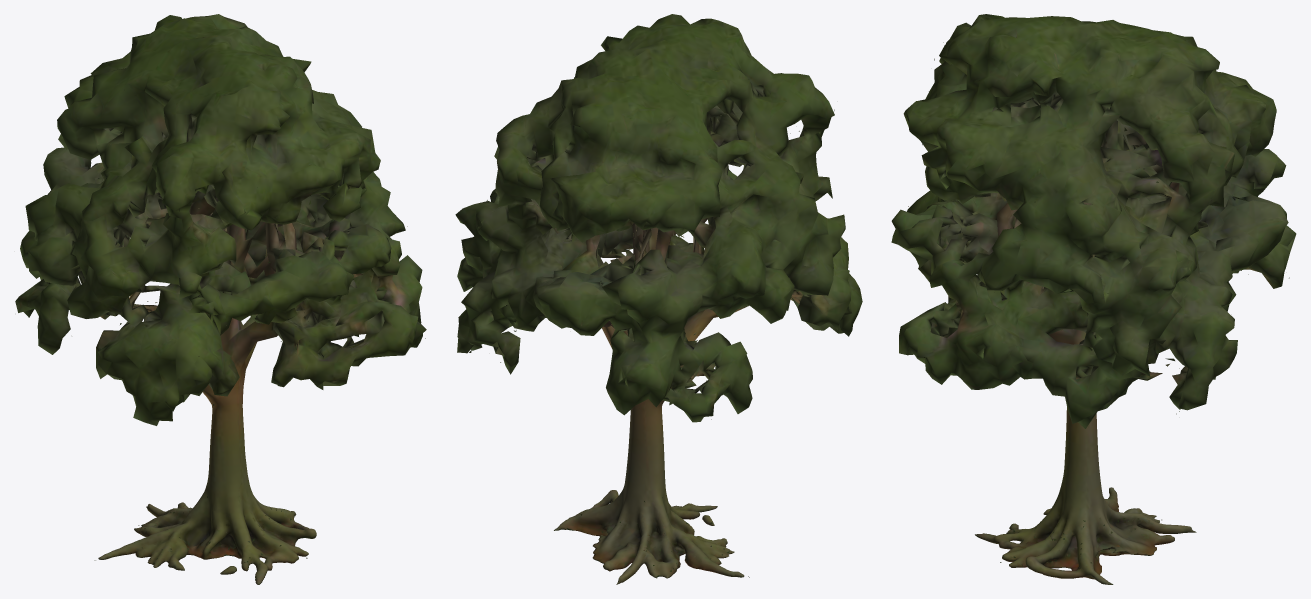
Rendered from tree-high.glb.
The picture shows the model from 3 angles, left to right: view 1: azimuth 30°, elevation 25°; view 2: azimuth 150°, elevation 25°; view 3: azimuth 270°, elevation 25°; orthographic projection. The views are drawn at different scales.
Parts seen in each view (by area): view 1: Source-derived tree remesh; view 2: Source-derived tree remesh; view 3: Source-derived tree remesh.
Part boxes in pixels (bbox=[...]): Source-derived tree remesh: bbox=[15, 14, 426, 584]; Source-derived tree remesh: bbox=[455, 14, 862, 584]; Source-derived tree remesh: bbox=[891, 14, 1296, 584].
Bounding box in the file's own units: 0.6963 × 1 × 0.7032.
Materials: 1 (1 with a texture image).
